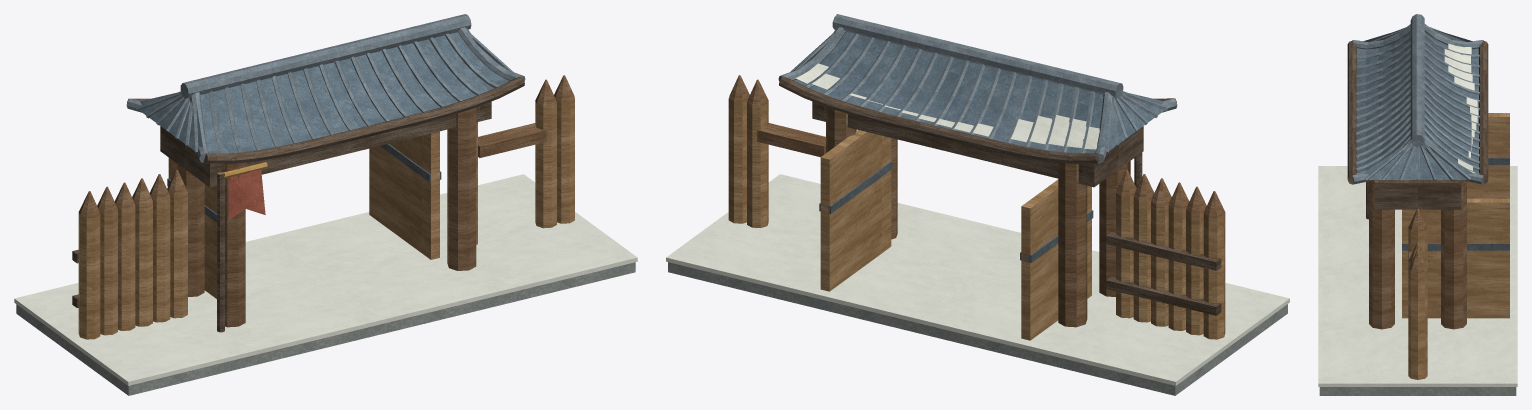
The model's file is BLD_GATE.glb.
The picture shows the model from 3 angles, left to right: view 1: azimuth 30°, elevation 25°; view 2: azimuth 150°, elevation 25°; view 3: azimuth 270°, elevation 25°; orthographic projection. The views are drawn at different scales.
Visible parts, largest first — view 1: BLD_GATE; view 2: BLD_GATE; view 3: BLD_GATE.
Boxes of the visible parts, bbox=[...] form: BLD_GATE: bbox=[14, 14, 637, 395]; BLD_GATE: bbox=[666, 14, 1289, 395]; BLD_GATE: bbox=[1318, 14, 1517, 395].
Bounding box in the file's own units: 7.87 × 3.6 × 3.05.
Materials: 10 (10 with a texture image).
